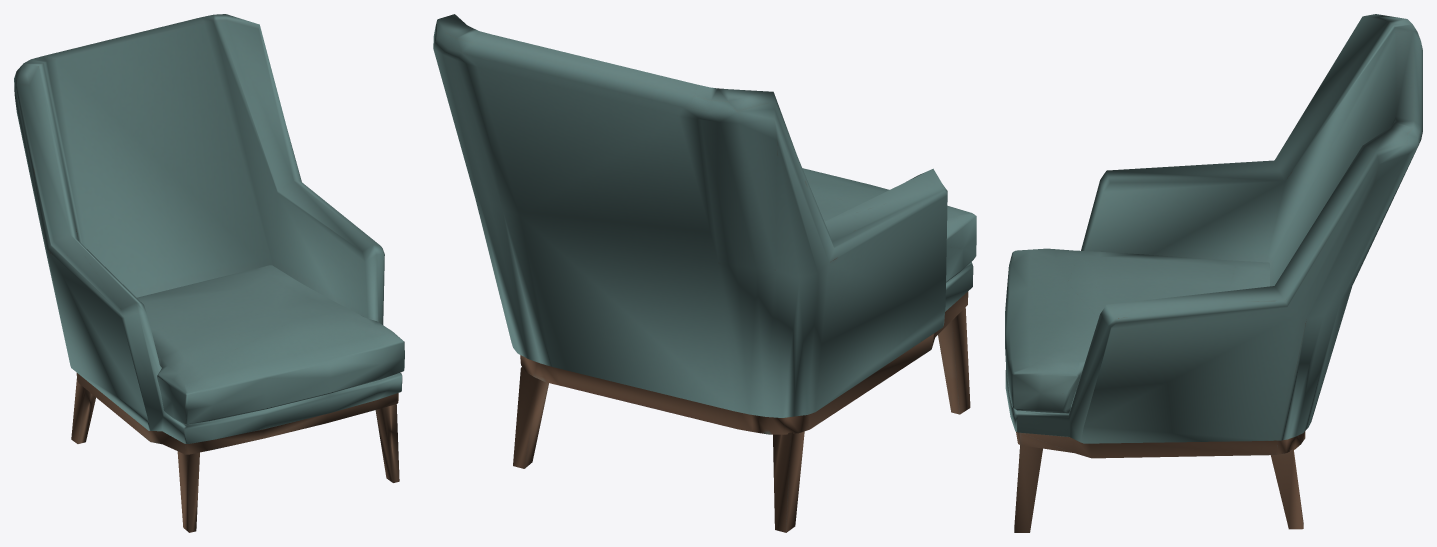
File: armchair.fbx
The picture shows the model from 3 angles, left to right: view 1: azimuth 30°, elevation 25°; view 2: azimuth 150°, elevation 25°; view 3: azimuth 270°, elevation 25°; orthographic projection. The views are drawn at different scales.
Visible parts, largest first — view 1: Mesh_0; view 2: Mesh_0; view 3: Mesh_0.
Part boxes in pixels (box(x1,y1,x2,y2)): Mesh_0: box(14, 14, 404, 532); Mesh_0: box(433, 14, 976, 532); Mesh_0: box(1005, 14, 1422, 532).
Bounding box in the file's own units: 75.73 × 94.97 × 89.94.
Materials: 1 (1 with a texture image).
